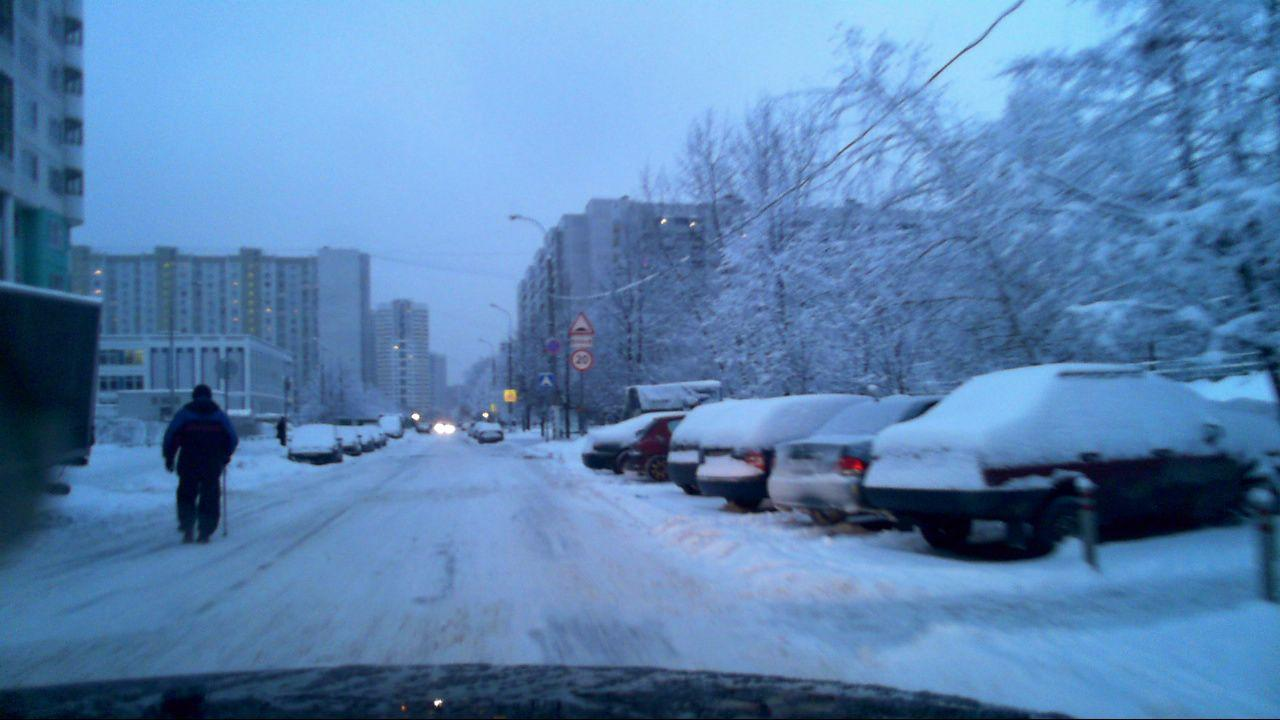road_sign: (567, 310, 595, 336), (572, 349, 594, 371)
